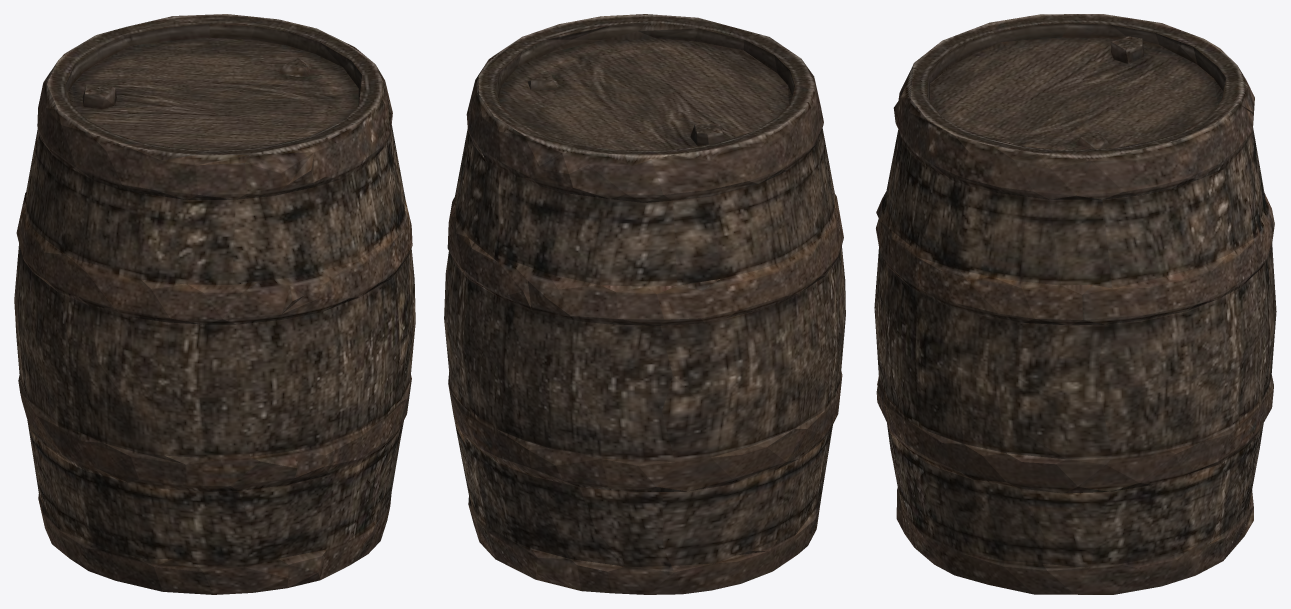
The model's file is barrel.glb.
3 views of the same model, side by side, from view 1: azimuth 30°, elevation 25°; view 2: azimuth 150°, elevation 25°; view 3: azimuth 270°, elevation 25° (orthographic).
Visible parts, largest first — view 1: lo; view 2: lo; view 3: lo.
Part boxes in pixels (box(x1,y1,x2,y2)): lo: box(14, 14, 415, 594); lo: box(444, 14, 845, 594); lo: box(874, 14, 1276, 594).
Size of the model in its own units: 1 by 1.21 by 1.
1 material, 1 textured.
